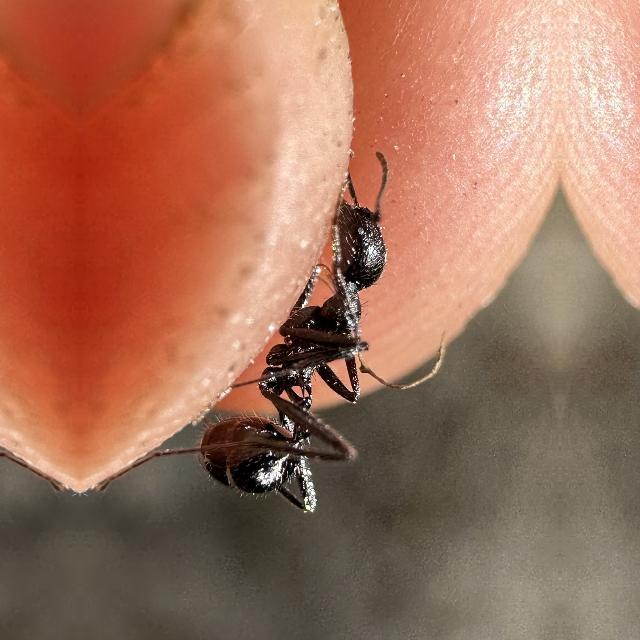Apheanogaster: (173, 157, 421, 539)
